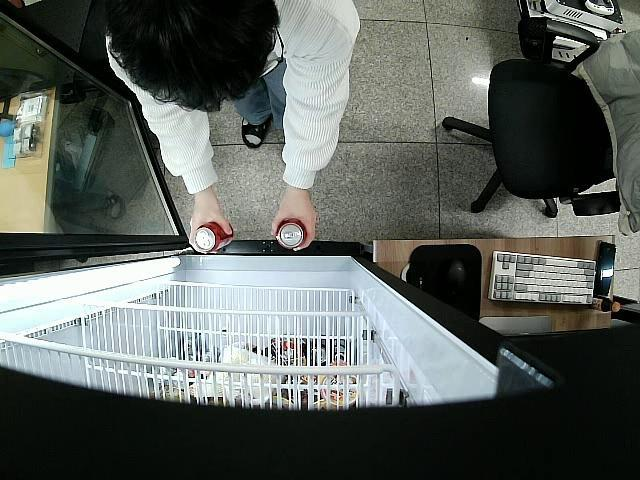11_cocaColaZero: (194, 223, 236, 253), (276, 216, 308, 252)
